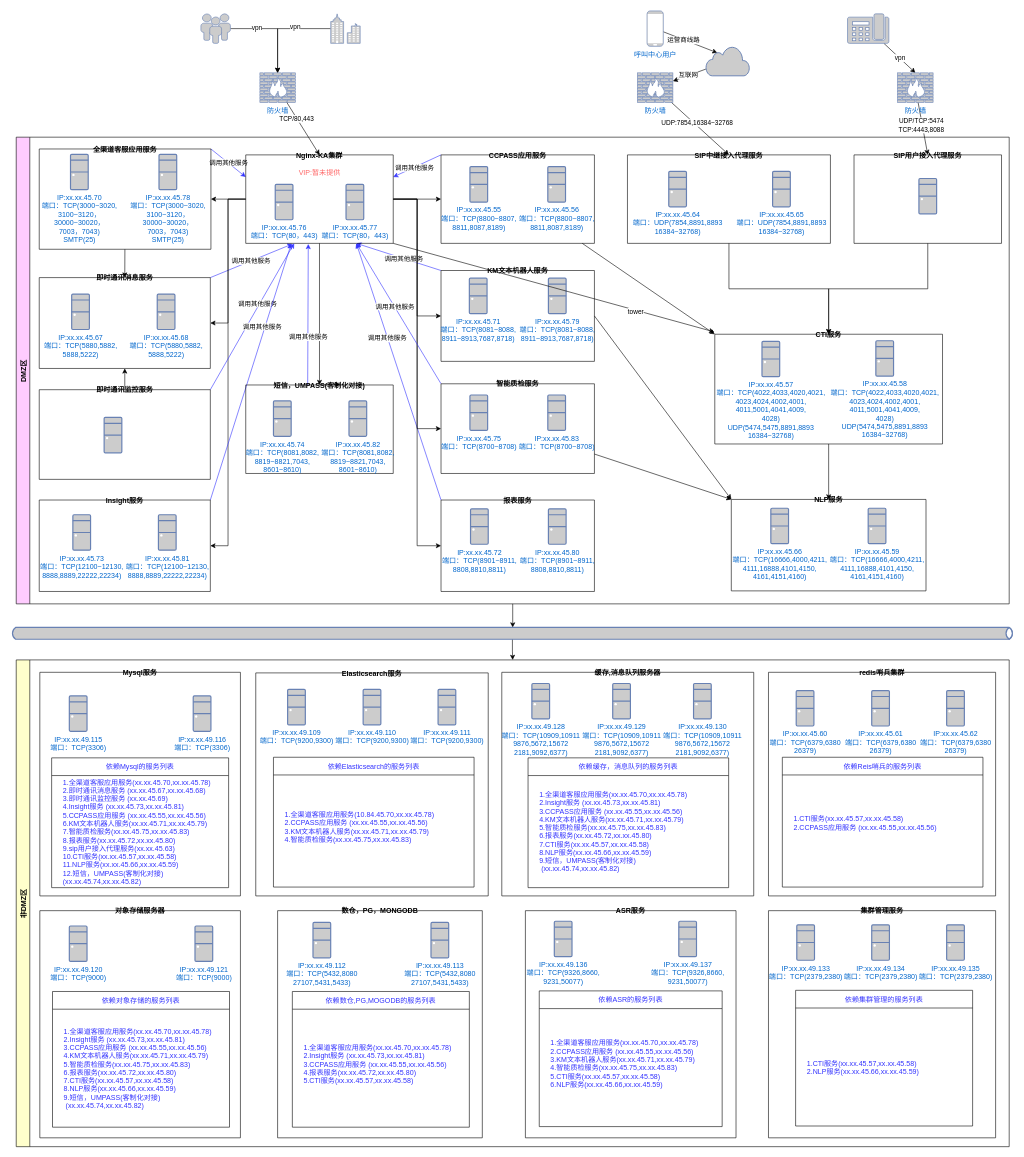
The diagram is 1024 pixels wide and 1157 high, and some of its shapes have lost their labels. The centre of each missing label's shape, as x and y in pixels:
IP:xx.xx.45.63 端口：TCP(4443,8088) UDP/TCP(5474): [927,196]
IP:xx.xx.45.69 端口：TCP(5880,5882,5888,5222): [112,435]
呼叫中心/即时通讯/工单坐席: [345,28]
坐席话机/软电话/网页电话: [868,28]
工单/即时通讯用户: [215,28]
运营商: [727,60]
